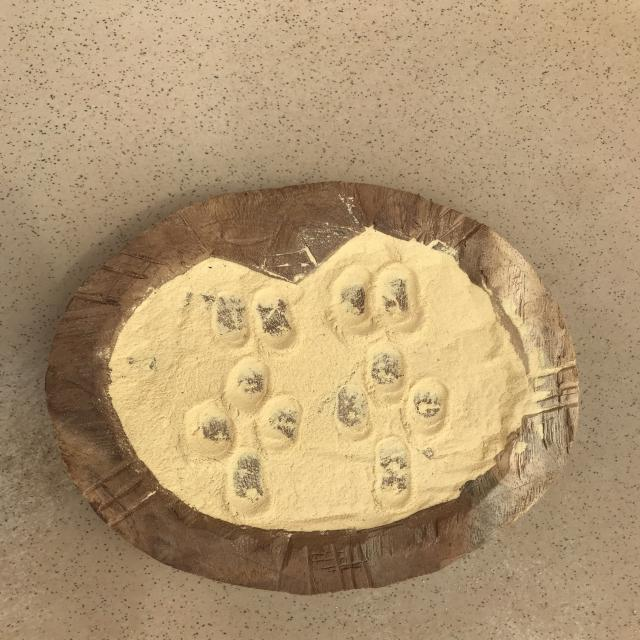double: (324, 256, 431, 341), (181, 392, 307, 460), (330, 377, 453, 439), (208, 280, 302, 355)
single: (218, 450, 280, 520), (366, 437, 418, 515), (218, 358, 283, 418), (356, 342, 410, 405)
